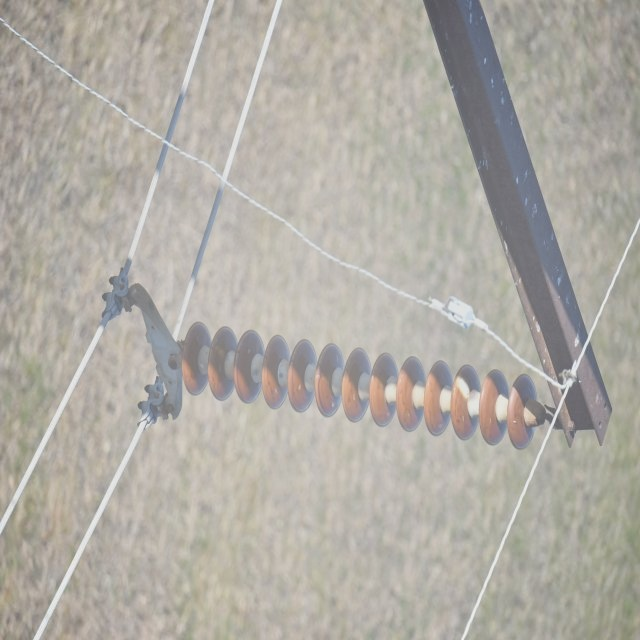insulator: (183, 315, 537, 452)
